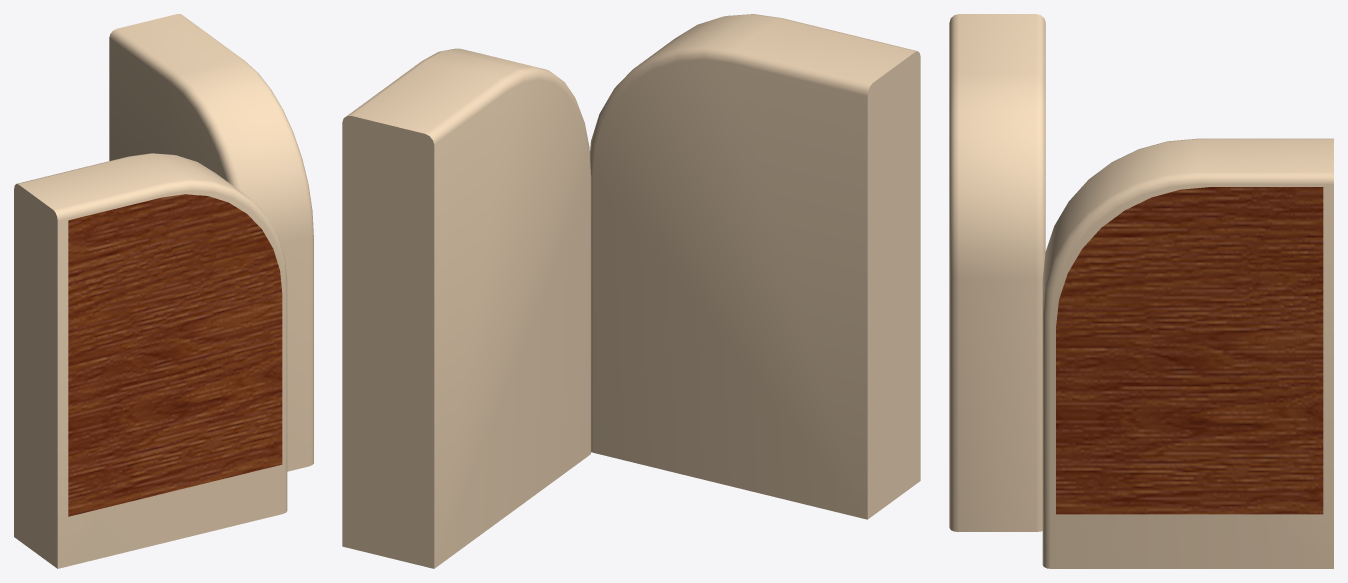
Rendered from Wall_Corner_O_2.glb.
3 renders of one model, left to right at view 1: azimuth 30°, elevation 25°; view 2: azimuth 150°, elevation 25°; view 3: azimuth 270°, elevation 25°, orthographic. The views are drawn at different scales.
Visible parts, largest first — view 1: Plane.014, Cube.011, Cube.009; view 2: Cube.011, Cube.009; view 3: Plane.008, Cube.011, Cube.009.
Part boxes in pixels (box(x1,y1,x2,y2)): Plane.014: box(68, 194, 282, 516); Cube.011: box(14, 153, 287, 568); Cube.009: box(109, 14, 313, 471); Cube.011: box(590, 14, 920, 519); Cube.009: box(342, 48, 591, 568); Plane.008: box(1056, 187, 1323, 514); Cube.011: box(949, 14, 1045, 531); Cube.009: box(1042, 138, 1333, 568).
Size of the model in its own units: 2 by 2.25 by 2.
4 materials, 4 textured.
